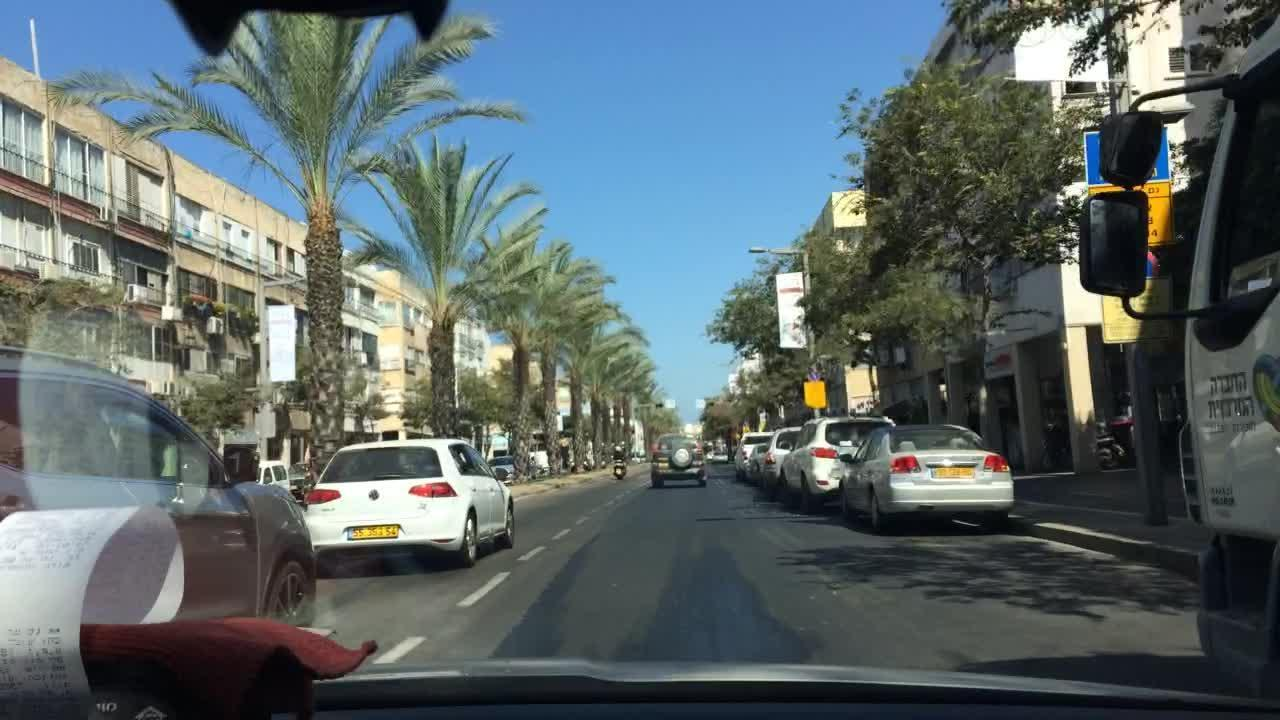Volkswagen: (368, 488, 381, 502)
